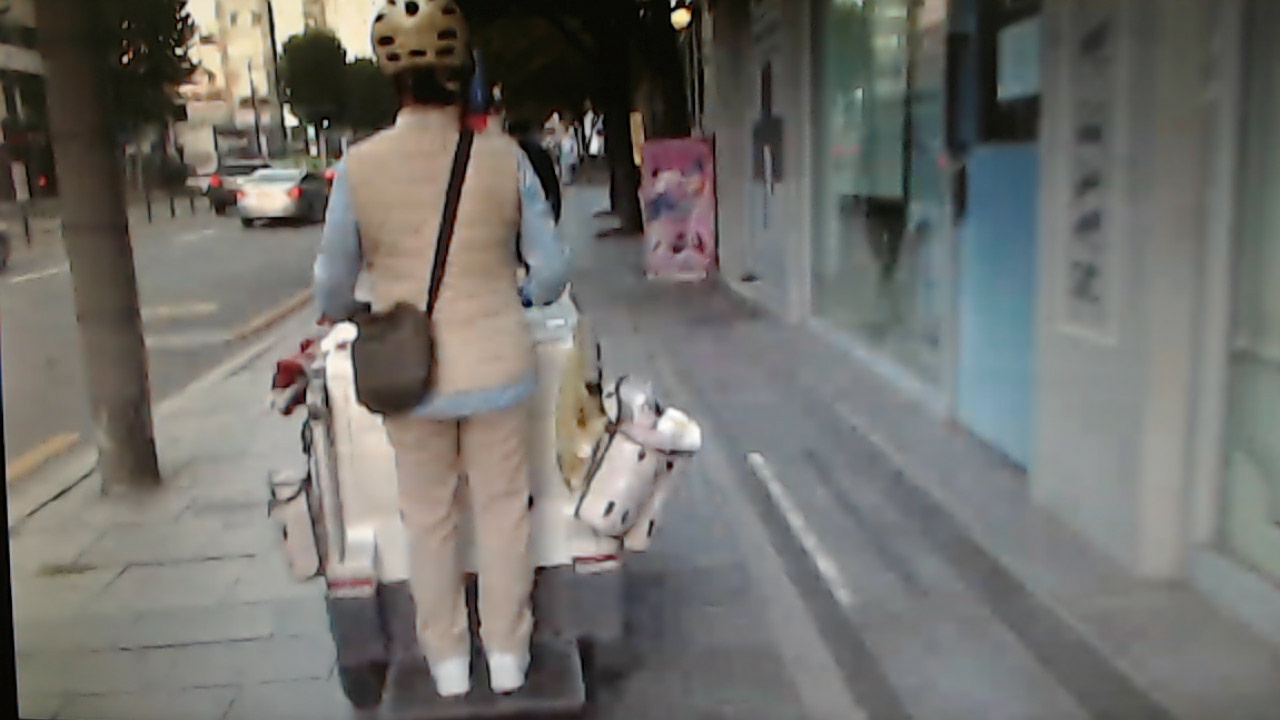Yakurut: (263, 2, 603, 720)
